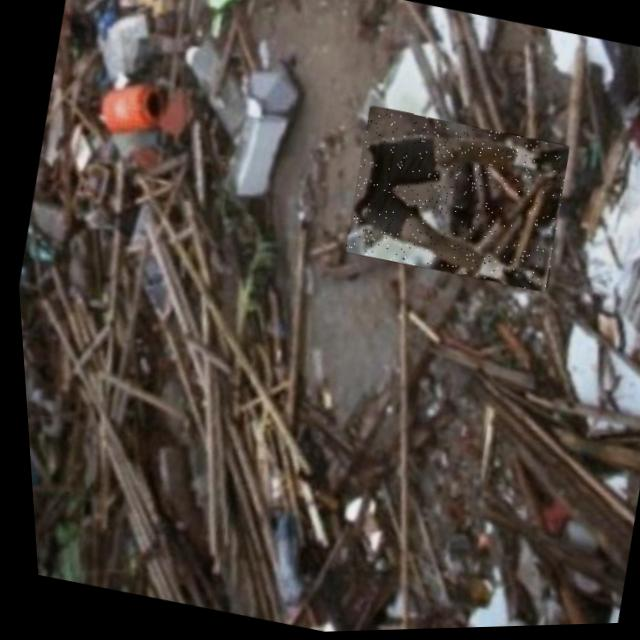Person in Rubble: (333, 102, 575, 299)
